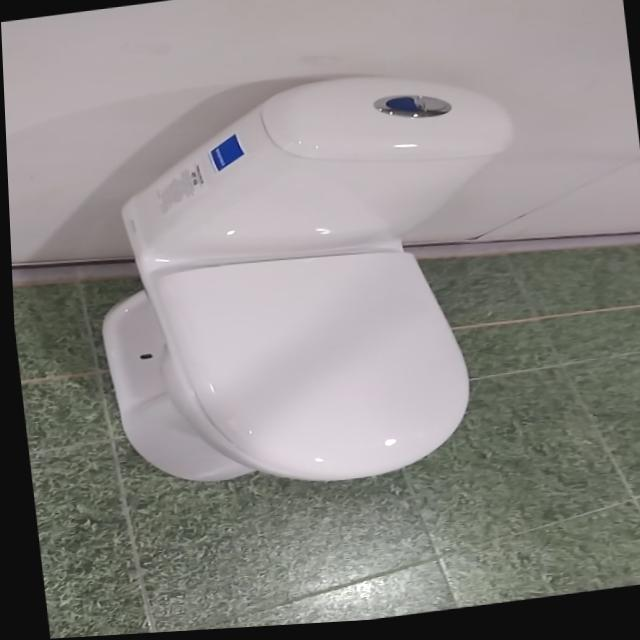toilet: (75, 59, 549, 511)
